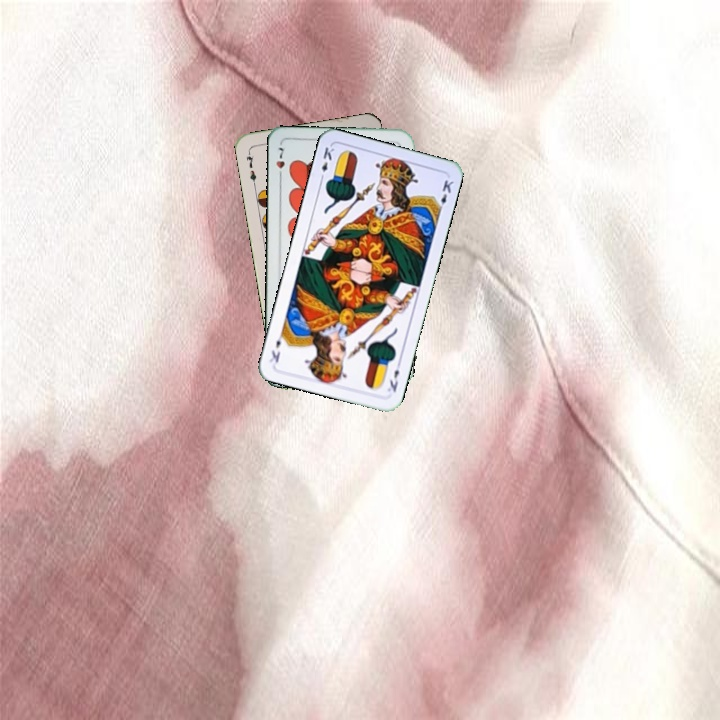E7: (242, 147, 259, 188)
EK: (316, 143, 337, 183), (384, 357, 404, 395)
H7: (272, 143, 287, 182)
